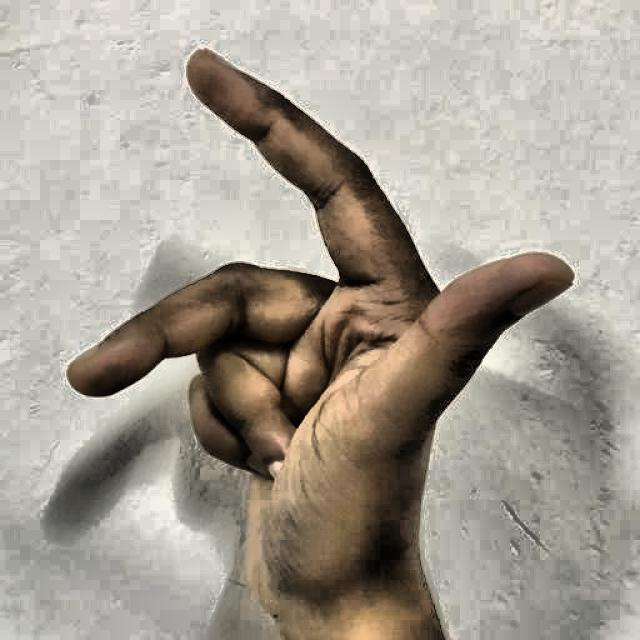Da: (46, 21, 595, 615)
